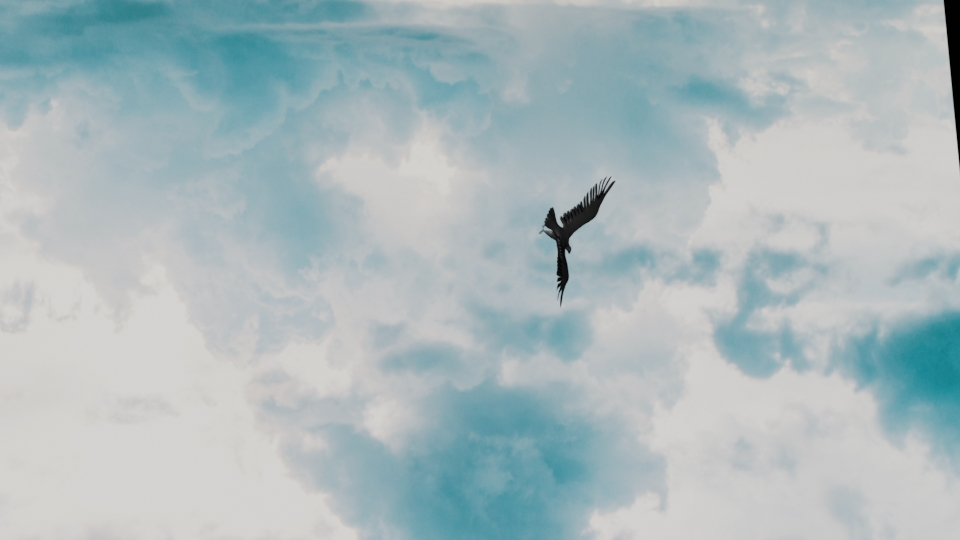bird: (540, 175, 616, 305)
